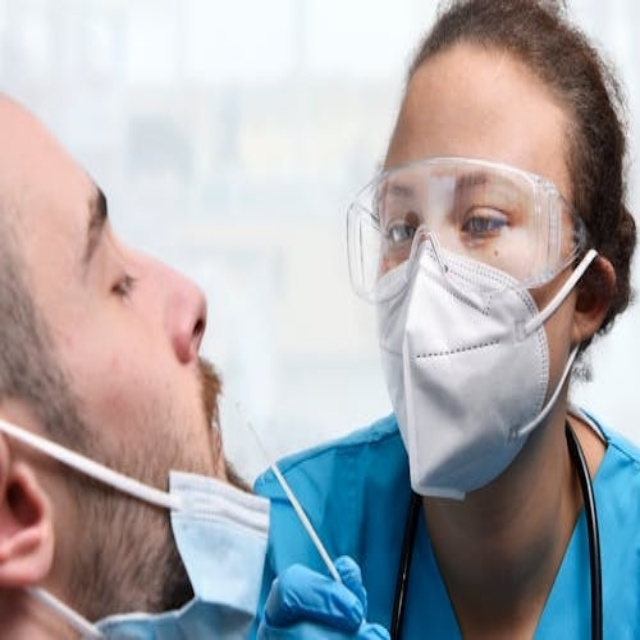Gafas: (345, 158, 590, 307)
Guantes: (259, 556, 391, 640)
Mascara: (353, 238, 576, 507)
Sin_gafas: (56, 163, 160, 354)
Sin_mascara: (197, 359, 248, 494)
